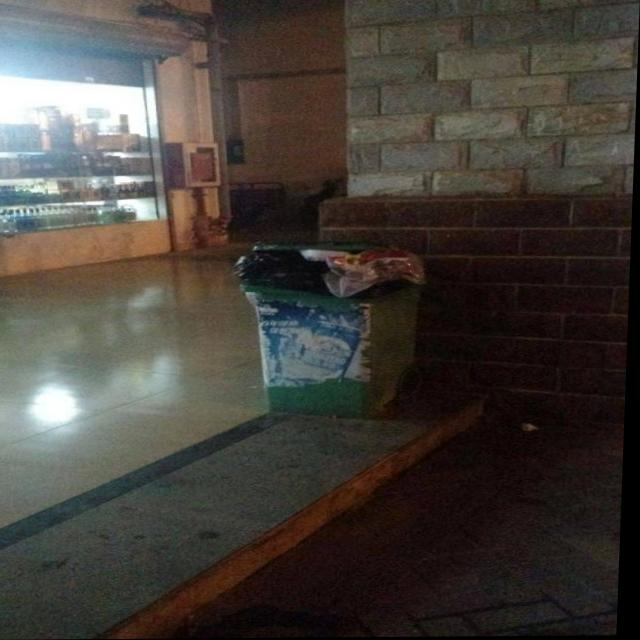overflow: (230, 243, 432, 420)
